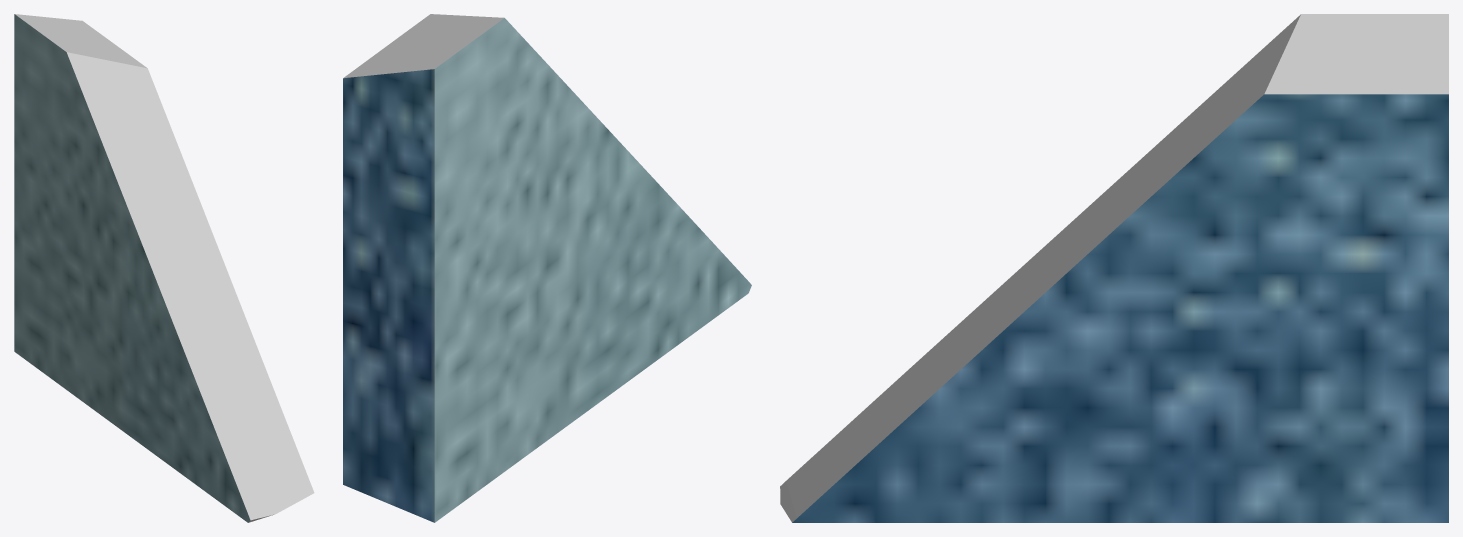
The picture shows the model from 3 angles, left to right: view 1: azimuth 30°, elevation 25°; view 2: azimuth 150°, elevation 25°; view 3: azimuth 270°, elevation 25°; orthographic projection. The views are drawn at different scales.
Parts seen in each view (by area): view 1: Cube_cell.002_Mesh.002; view 2: Cube_cell.002_Mesh.002; view 3: Cube_cell.002_Mesh.002.
Part boxes in pixels (<box>): Cube_cell.002_Mesh.002: <box>14,14,314,522</box>; Cube_cell.002_Mesh.002: <box>343,14,751,522</box>; Cube_cell.002_Mesh.002: <box>780,14,1448,522</box>.
Bounding box in the file's own units: 0.0832 × 0.3937 × 0.4985.
